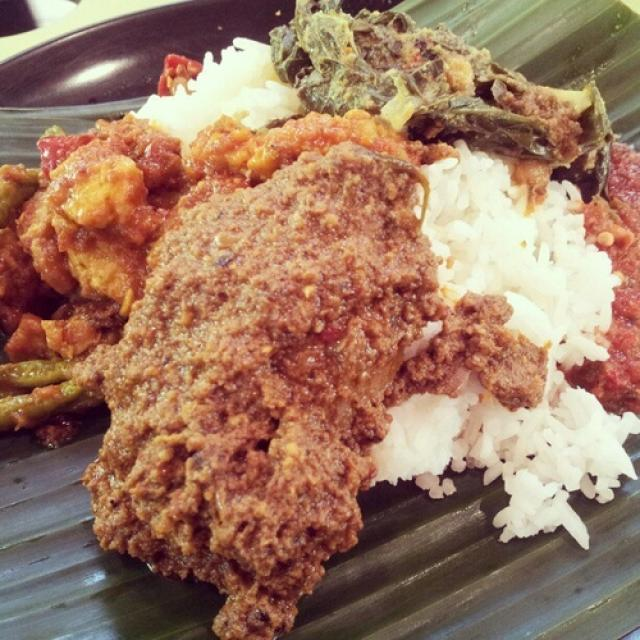米饭主食: (9, 10, 627, 626)
